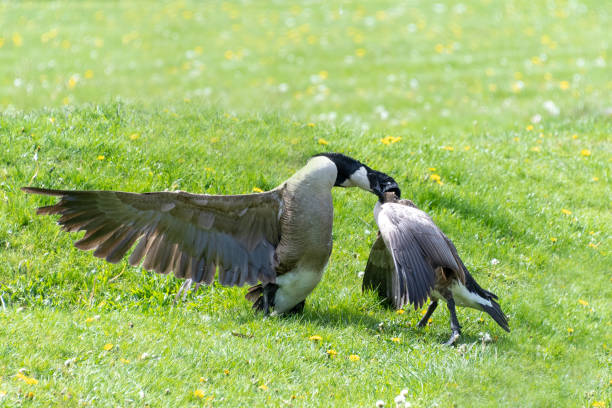goose: (20, 151, 402, 321)
